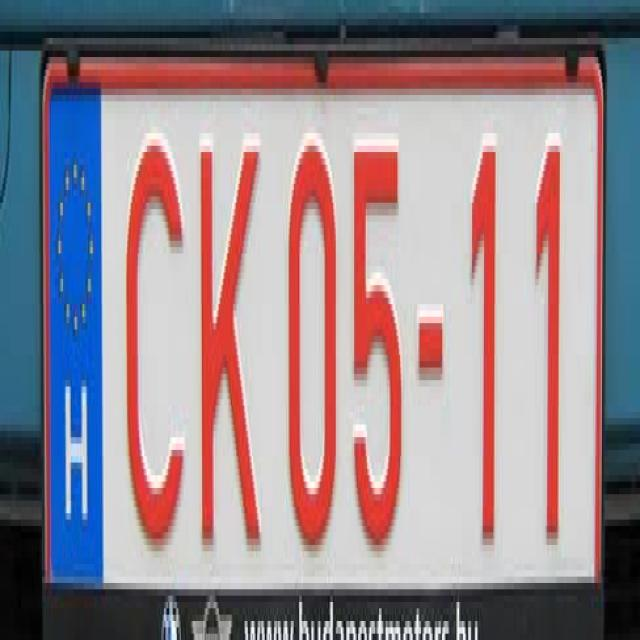EU: (43, 60, 594, 591)
Hongrie: (43, 78, 105, 600)
